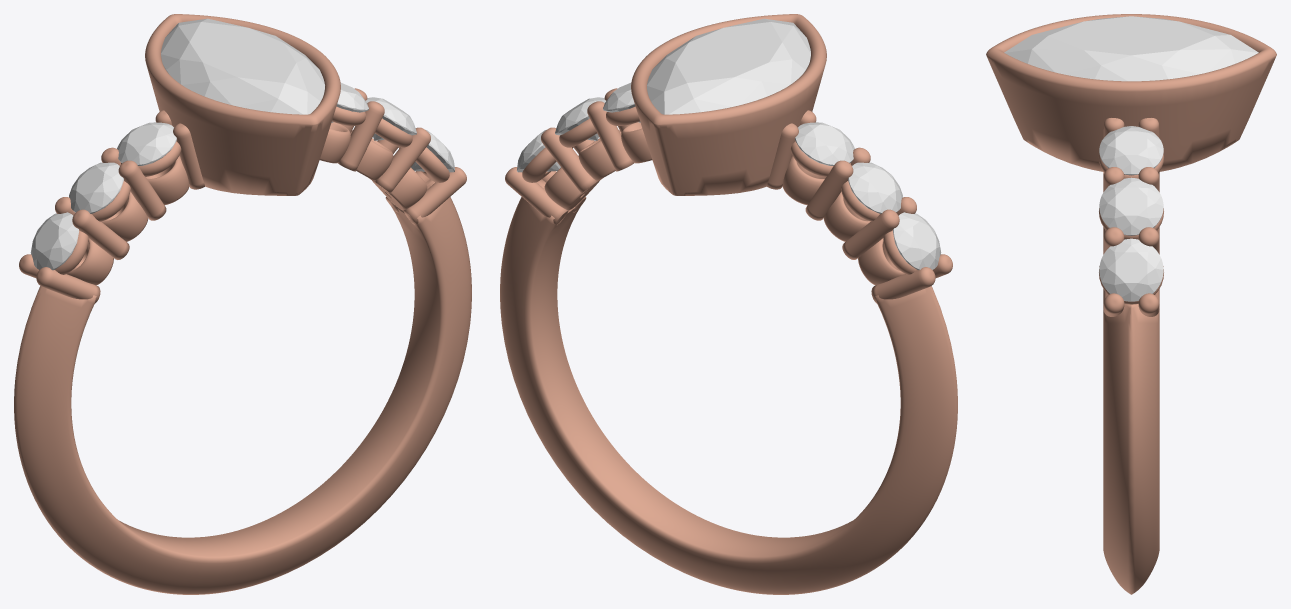
File: diamond-marquise-rosegold-bezelset-knifeedge-7stone.glb
3 views of the same model, side by side, from view 1: azimuth 30°, elevation 25°; view 2: azimuth 150°, elevation 25°; view 3: azimuth 270°, elevation 25° (orthographic).
Visible parts, largest first — view 1: metal.002, stone.002, side.002, side.013, side.014, side.016, side.017, side.015; view 2: metal.002, stone.002, side.002, side.013, side.014, side.016, side.017; view 3: metal.002, stone.002, side.015, side.016, side.017.
Part boxes in pixels (x1=…): metal.002: x1=14, y1=14, x2=471, y2=594; stone.002: x1=161, y1=18, x2=324, y2=114; side.002: x1=30, y1=212, x2=78, y2=270; side.013: x1=69, y1=162, x2=123, y2=213; side.014: x1=117, y1=122, x2=176, y2=165; side.016: x1=366, y1=97, x2=416, y2=140; side.017: x1=331, y1=83, x2=368, y2=122; side.015: x1=411, y1=129, x2=454, y2=172; metal.002: x1=500, y1=14, x2=957, y2=594; stone.002: x1=647, y1=18, x2=810, y2=114; side.002: x1=893, y1=212, x2=941, y2=270; side.013: x1=848, y1=162, x2=902, y2=213; side.014: x1=795, y1=122, x2=854, y2=165; side.016: x1=555, y1=97, x2=605, y2=140; side.017: x1=603, y1=83, x2=640, y2=122; metal.002: x1=986, y1=14, x2=1276, y2=594; stone.002: x1=1004, y1=16, x2=1258, y2=81; side.015: x1=1099, y1=238, x2=1163, y2=301; side.016: x1=1099, y1=177, x2=1163, y2=235; side.017: x1=1099, y1=126, x2=1163, y2=175.
Size of the model in its own units: 20.5 by 22.93 by 11.31.
